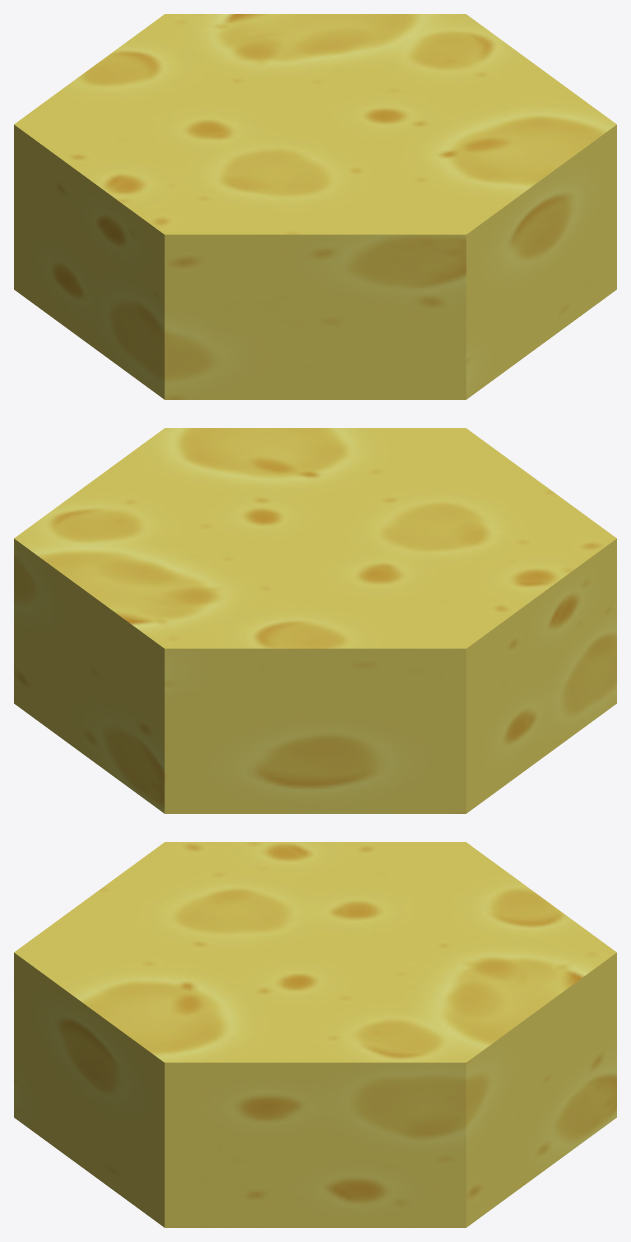
The model's file is Cheese01.fbx.
3 renders of one model, top to bottom at view 1: azimuth 30°, elevation 25°; view 2: azimuth 150°, elevation 25°; view 3: azimuth 270°, elevation 25°, orthographic.
Visible parts, largest first — view 1: Cheese01; view 2: Cheese01; view 3: Cheese01.
Part boxes in pixels (x1=…): Cheese01: x1=14, y1=14, x2=616, y2=399; Cheese01: x1=14, y1=428, x2=616, y2=813; Cheese01: x1=14, y1=842, x2=616, y2=1227.
Bounding box in the file's own units: 0.0984 × 0.0343 × 0.1137.
